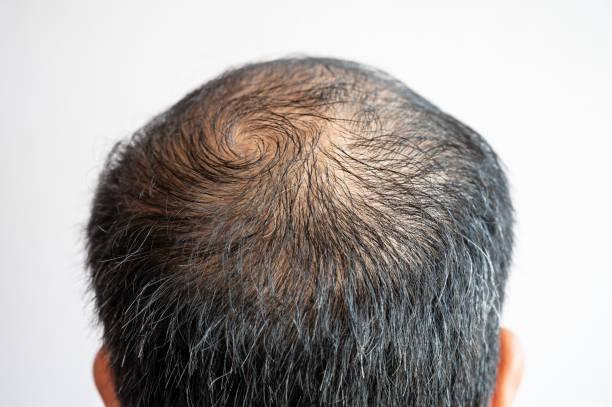low hair density: (195, 99, 381, 235)
